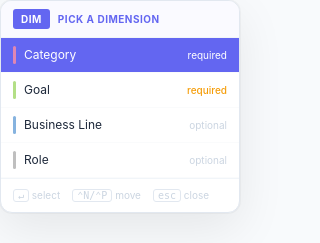
it: DimensionPopover › selecting role shows role names from commitments in val stage
The width and height of the screenshot is (320, 243).
Click the element with test id "dim-role".
click(120, 160)  # box x1=1 y1=143 x2=239 y2=178
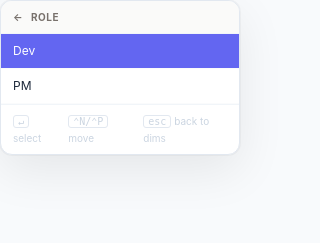
Now the number of elements with test id "val-item" is 2, box x1=1 y1=34 x2=239 y2=69; x1=1 y1=69 x2=239 y2=104
Now the element with test id "val-item" reads "Dev", box x1=13 y1=43 x2=35 y2=58
Now the element with test id "val-item" reads "PM", box x1=13 y1=78 x2=32 y2=93
